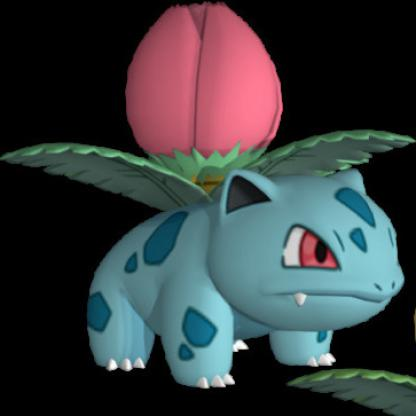Ivysaur: (26, 23, 416, 378)
